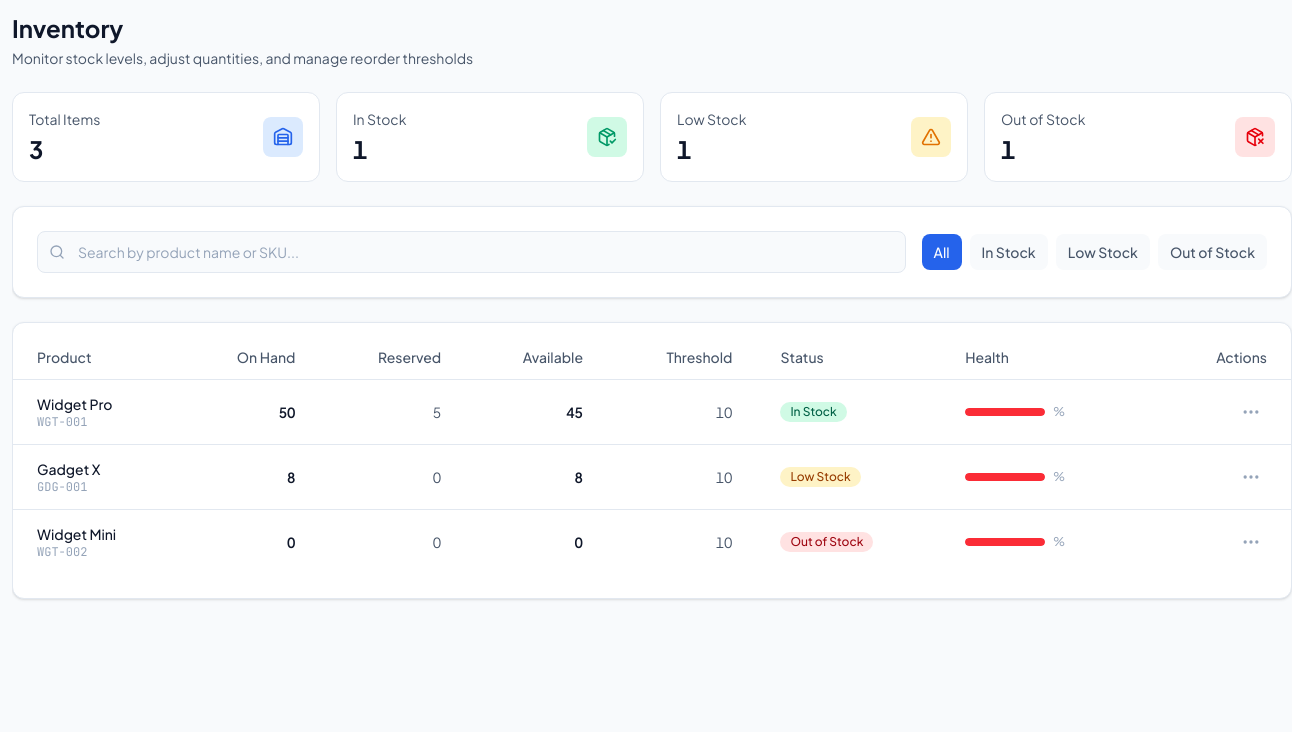
InventoryListPage › filters items by SKU when search text matches
Type "WGT-002" into the field at (471, 252), box [37,231,906,273]
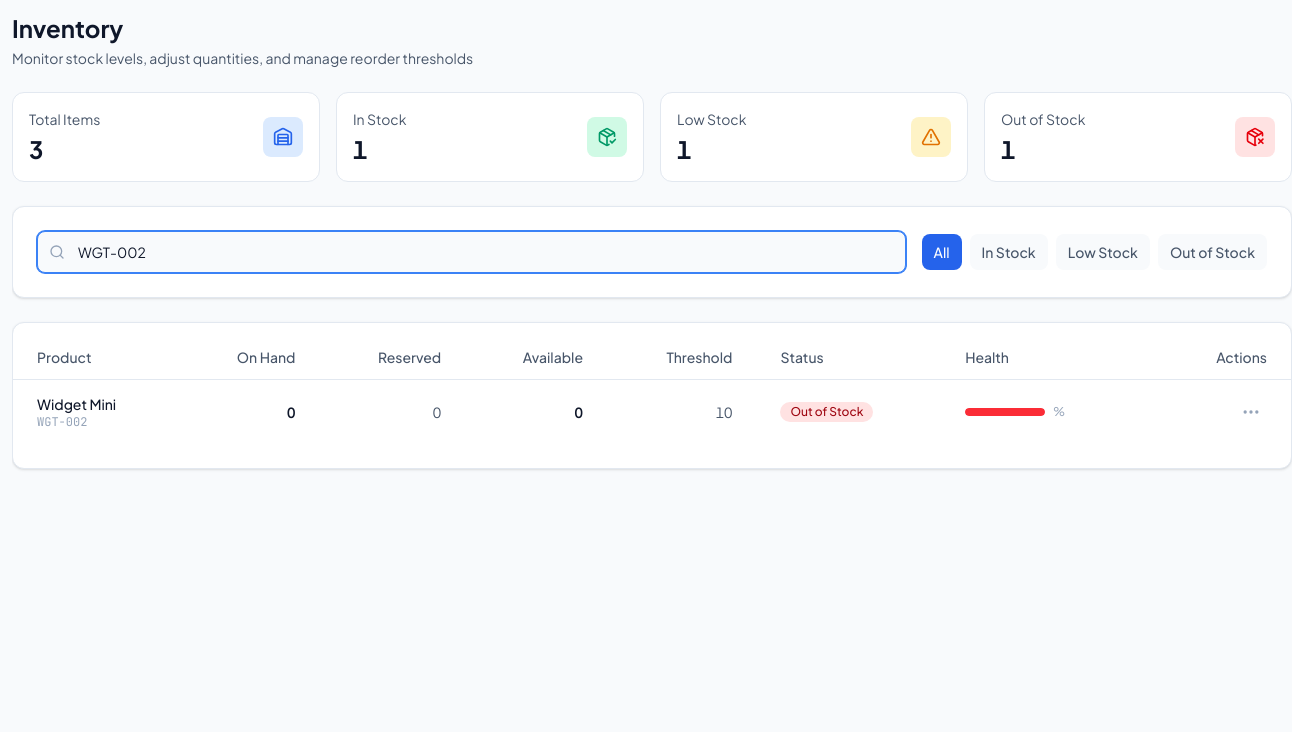
Expected: the text "Widget Mini" is shown, [37,395,116,413]
Now the text "Gadget X" is gone
